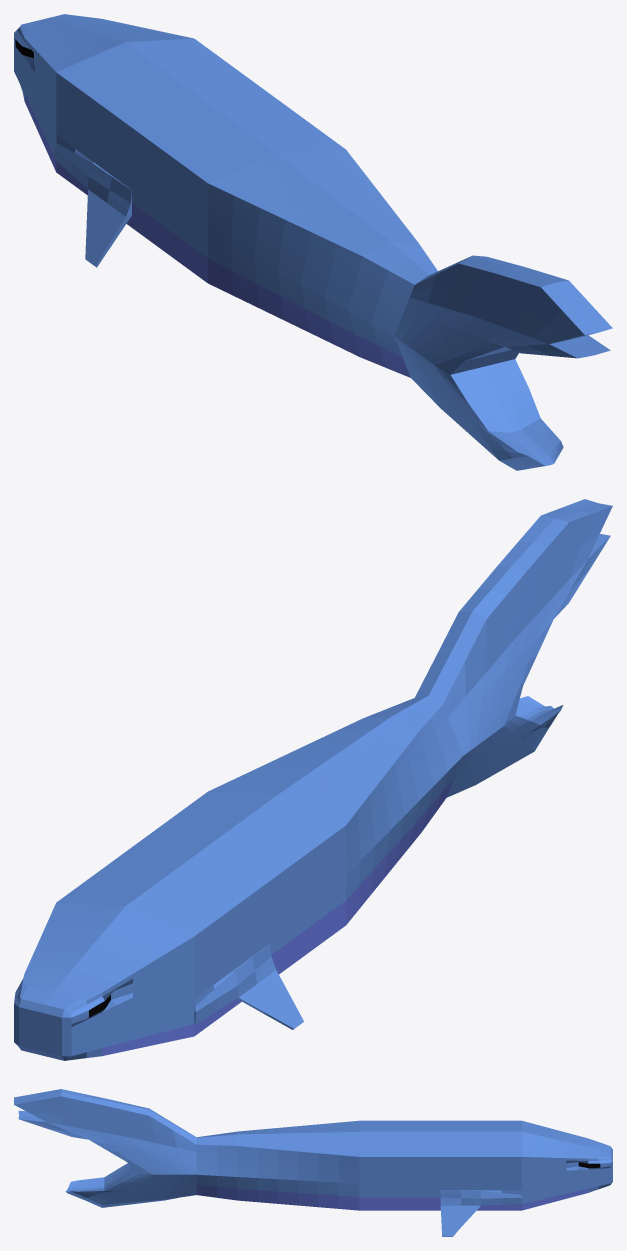
The model's file is kokofish.fbx.
3 views of the same model, one above another, from view 1: azimuth 30°, elevation 25°; view 2: azimuth 150°, elevation 25°; view 3: azimuth 270°, elevation 25° (orthographic). The views are drawn at different scales.
Visible parts, largest first — view 1: kok; view 2: kok; view 3: kok.
Boxes of the visible parts, x1,y1,x2,y2 form: kok: (14, 14, 612, 470); kok: (14, 499, 612, 1060); kok: (14, 1089, 612, 1236).
Bounding box in the file's own units: 551 × 553 × 2549.
